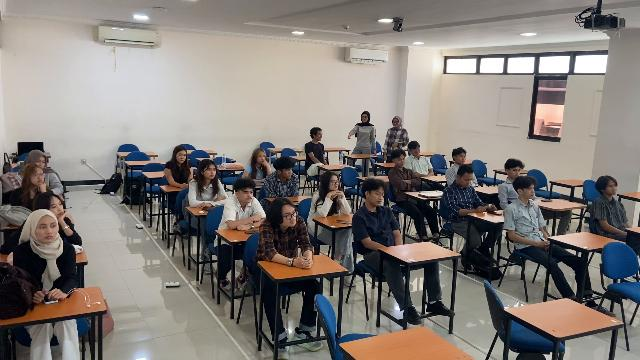fokus: (594, 174, 622, 202), (37, 219, 56, 241), (282, 207, 297, 227), (50, 200, 64, 218), (372, 188, 384, 206), (241, 186, 254, 202), (31, 169, 44, 184), (204, 165, 215, 179), (524, 184, 535, 198), (396, 154, 405, 169), (330, 176, 339, 190), (36, 156, 46, 168), (177, 151, 187, 163), (510, 166, 519, 179), (284, 166, 292, 179), (258, 152, 266, 164), (411, 146, 420, 156), (458, 153, 466, 163)
